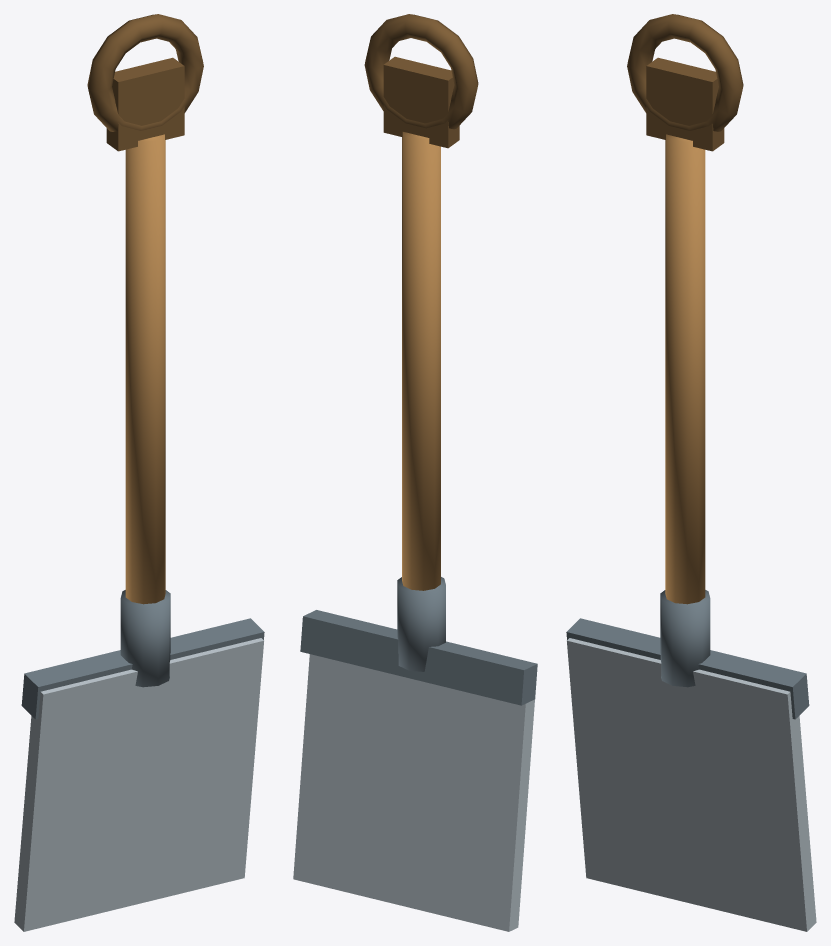
Rendered from wrong-shovel.glb.
The picture shows the model from 3 angles, left to right: view 1: azimuth 30°, elevation 25°; view 2: azimuth 150°, elevation 25°; view 3: azimuth 330°, elevation 25°; orthographic projection. The views are drawn at different scales.
Visible parts, largest first — view 1: wrong-shovel; view 2: wrong-shovel; view 3: wrong-shovel.
Part boxes in pixels (x1,y1,x2,y2): wrong-shovel: [14, 14, 264, 931]; wrong-shovel: [293, 14, 537, 931]; wrong-shovel: [566, 14, 816, 931].
Bounding box in the file's own units: 0.205 × 0.7757 × 0.0527.
